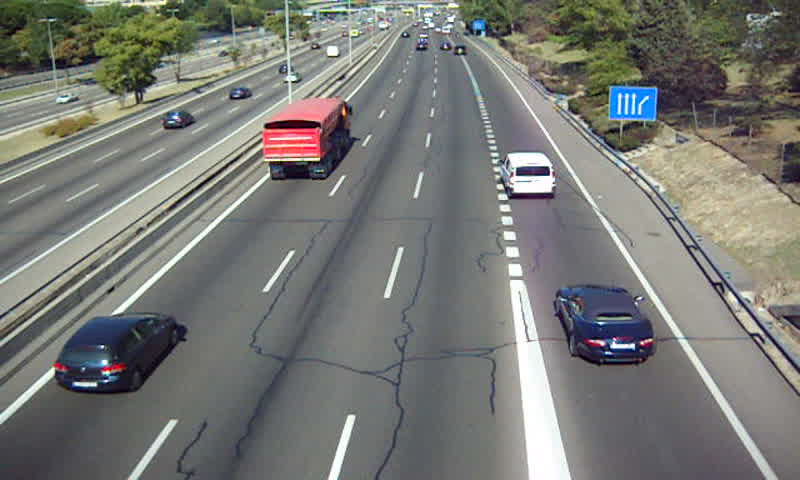car: (55, 314, 179, 391), (553, 286, 656, 363)
truck: (262, 99, 355, 181)
van: (500, 153, 556, 199)
